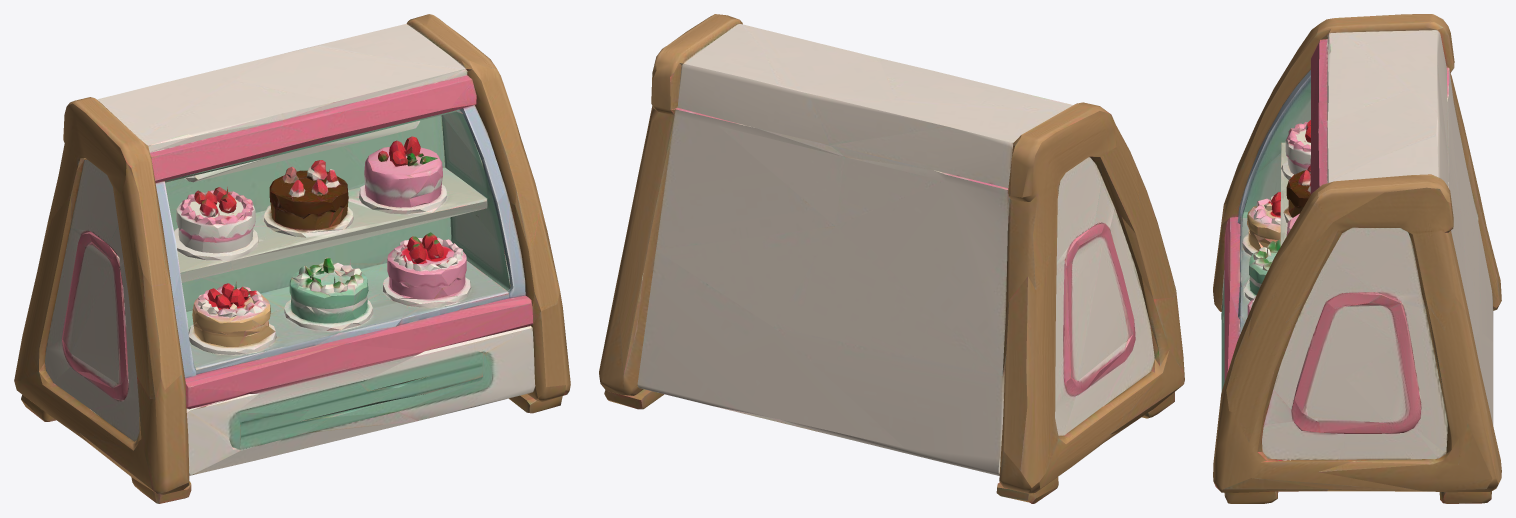
Rendered from cakeCase.glb.
3 renders of one model, left to right at view 1: azimuth 30°, elevation 25°; view 2: azimuth 150°, elevation 25°; view 3: azimuth 270°, elevation 25°, orthographic. The views are drawn at different scales.
Parts seen in each view (by area): view 1: Mesh_0; view 2: Mesh_0; view 3: Mesh_0.
Boxes of the visible parts, x1=… form: Mesh_0: x1=14, y1=14, x2=570, y2=503; Mesh_0: x1=599, y1=14, x2=1184, y2=503; Mesh_0: x1=1213, y1=14, x2=1501, y2=503.
Bounding box in the file's own units: 1.38 × 1.01 × 0.85.
1 material, 1 textured.
